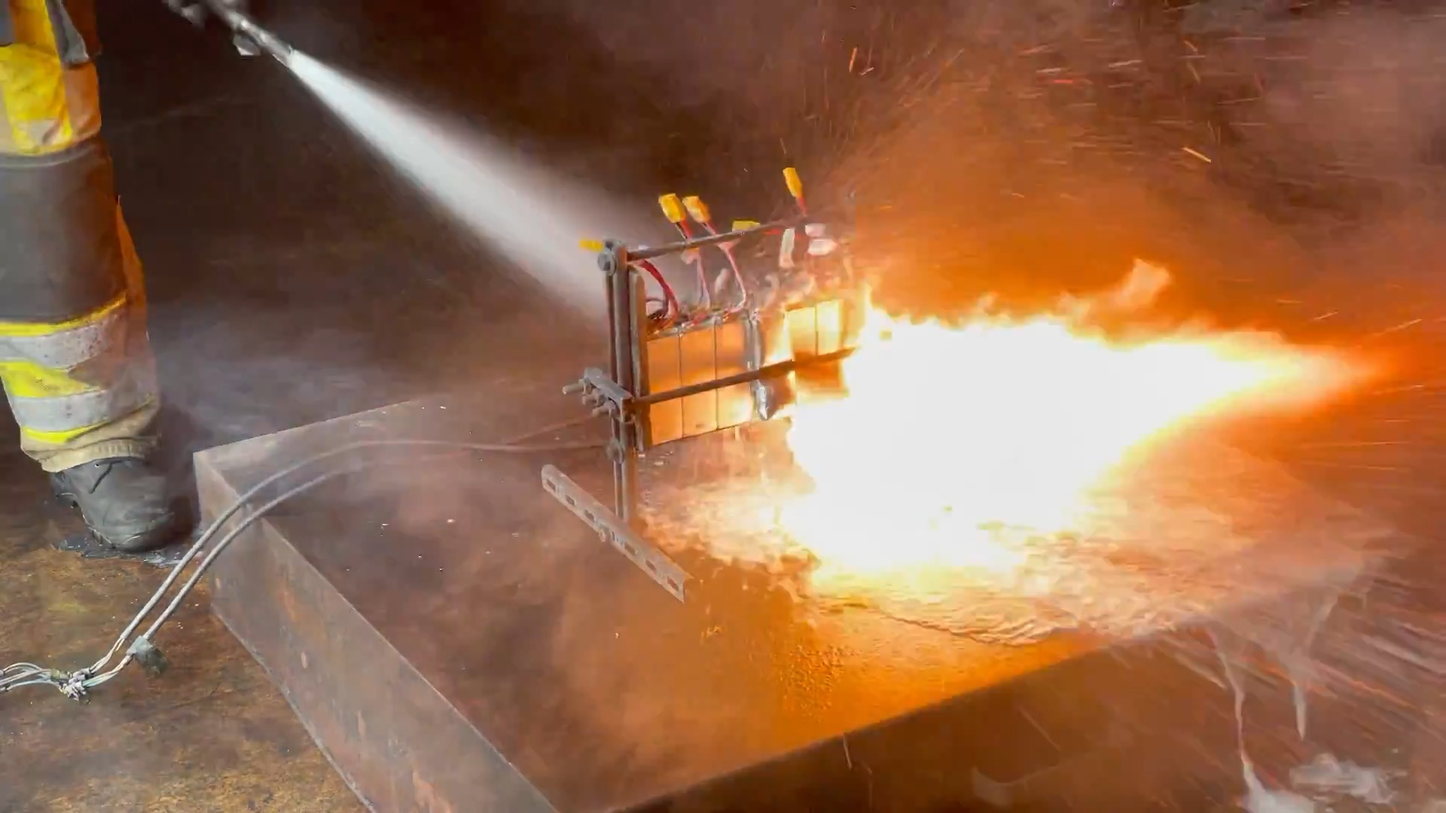fire: (752, 246, 1408, 605)
smoke: (36, 240, 793, 625), (789, 1, 1446, 336)
